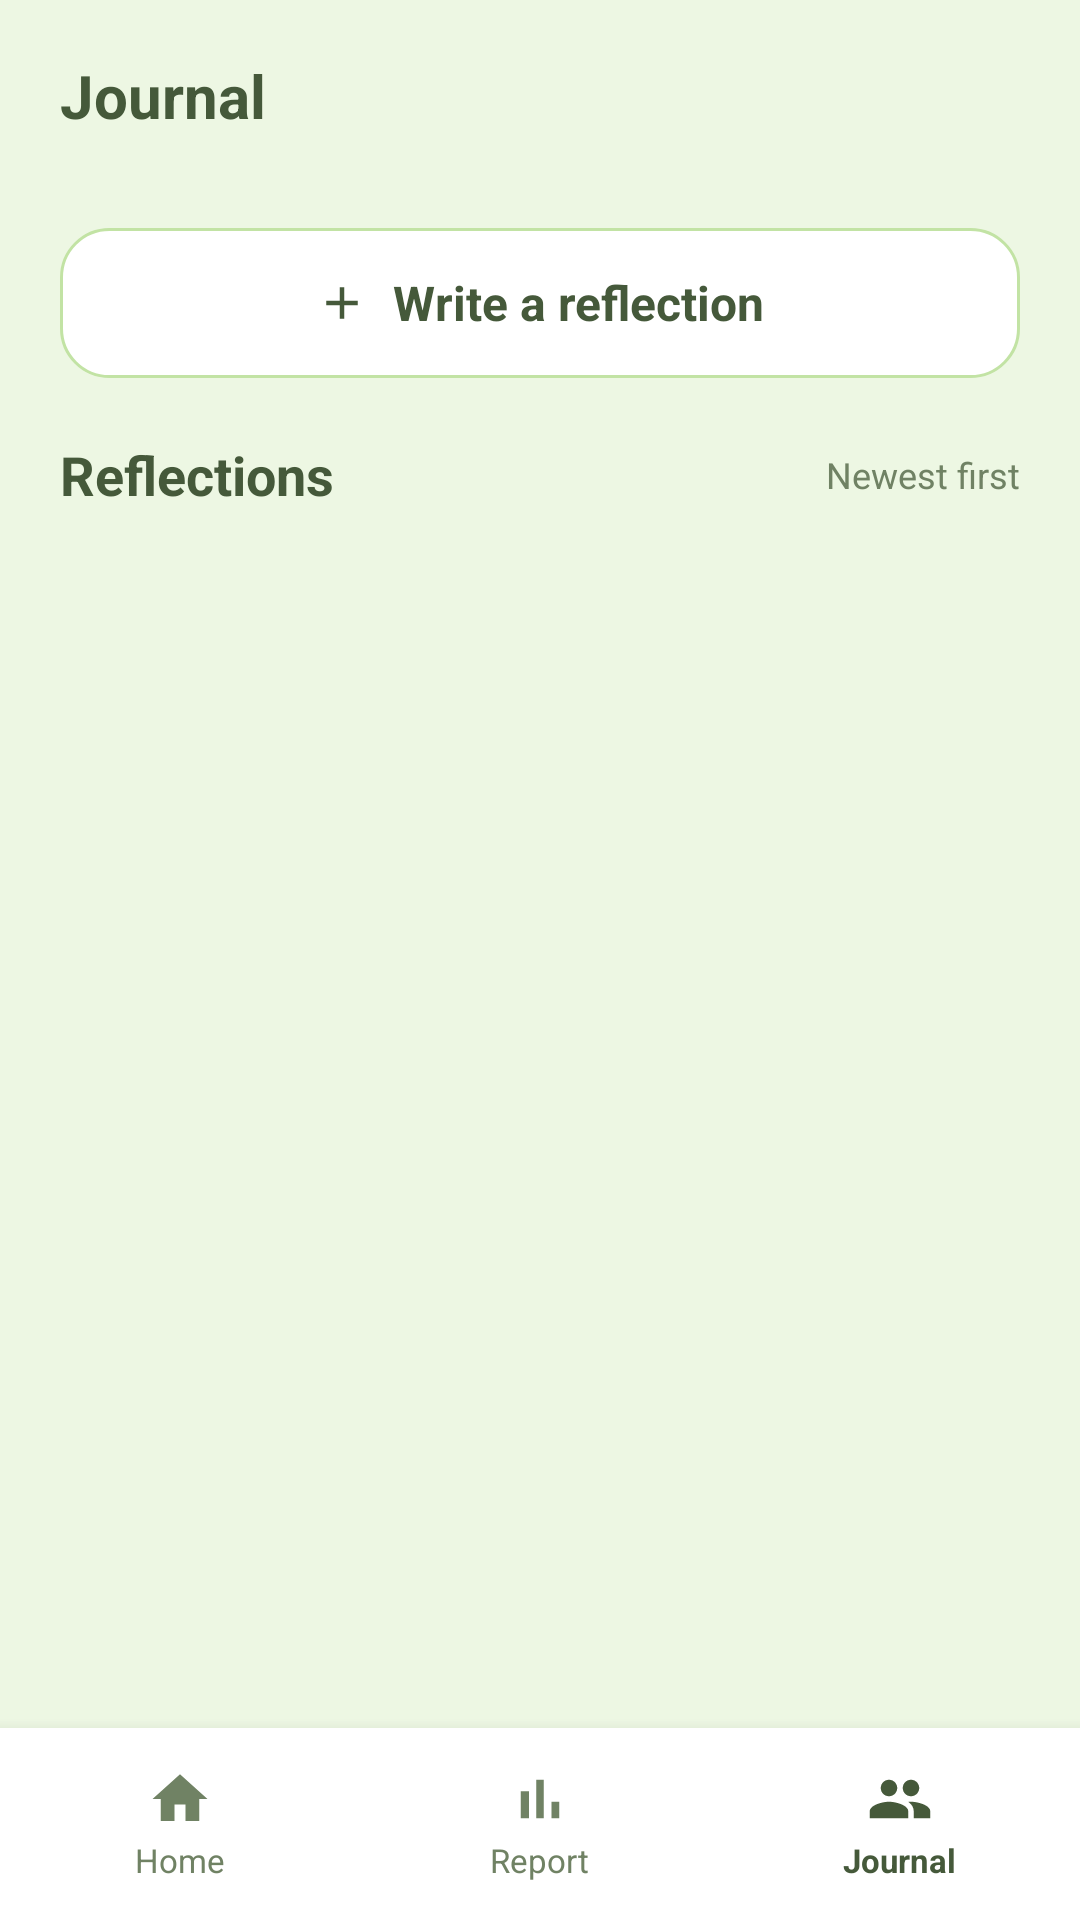

Screen size 1080 × 1920. Icon name, then its box in pixels as (x1=x1, y1=y1, x2=x2, y2=y2):
Plus: (x1=326, y1=287, x2=358, y2=319)
